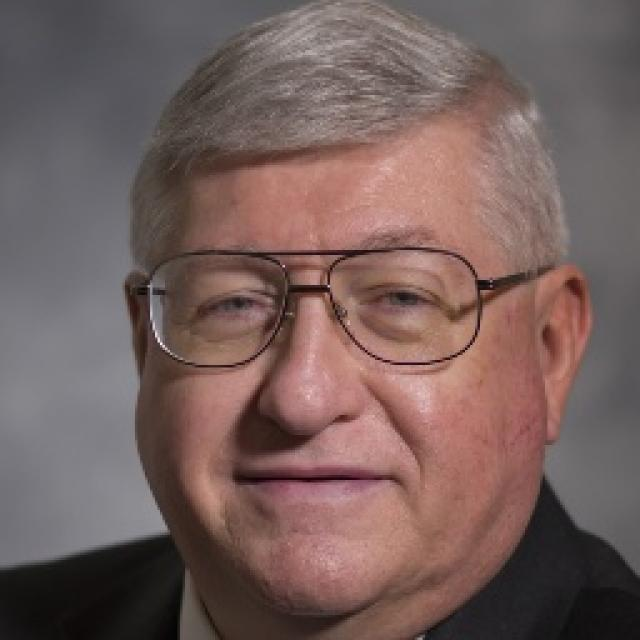earlobe: (538, 375, 566, 447)
eye: (355, 288, 437, 314), (204, 292, 272, 318)
nose: (258, 410, 368, 454)
wholeear: (534, 263, 593, 448), (124, 270, 152, 374)
